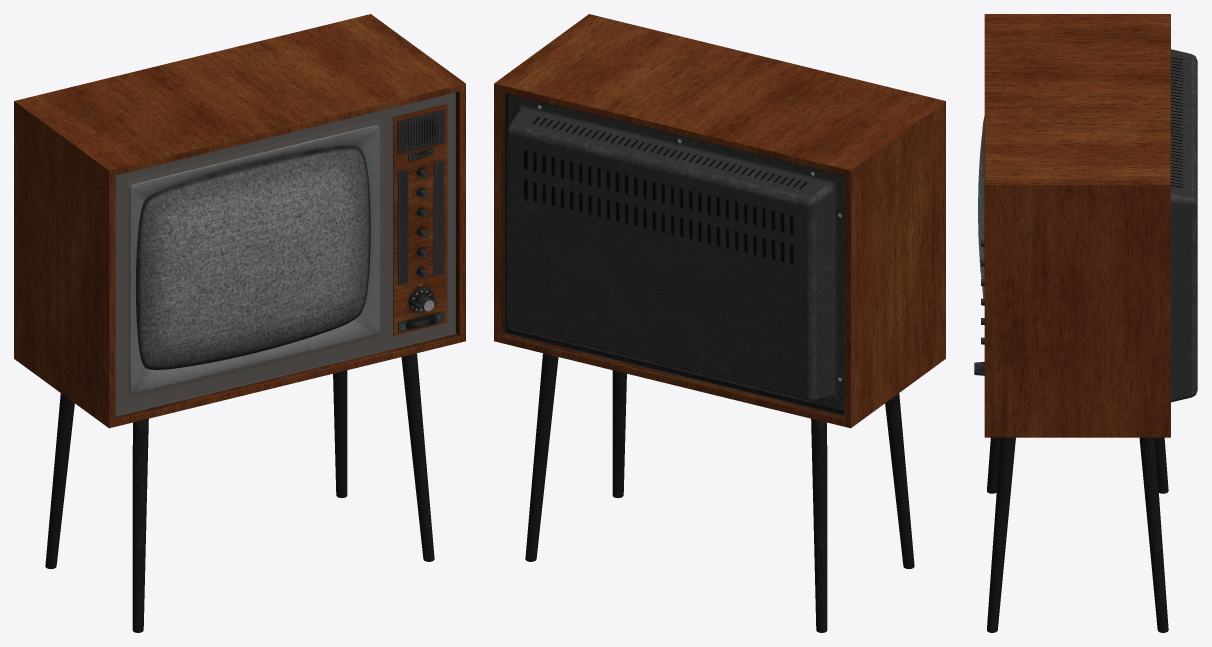
Rendered from retro-tv.glb.
3 renders of one model, left to right at view 1: azimuth 30°, elevation 25°; view 2: azimuth 150°, elevation 25°; view 3: azimuth 270°, elevation 25°, orthographic. The views are drawn at different scales.
Visible parts, largest first — view 1: TV; view 2: TV; view 3: TV.
Boxes of the visible parts, <box> form: TV: <box>14,14,465,632</box>; TV: <box>494,14,945,632</box>; TV: <box>978,14,1197,632</box>.
Size of the model in its own units: 1.01 by 1.28 by 0.5596.
2 materials, 2 textured.
